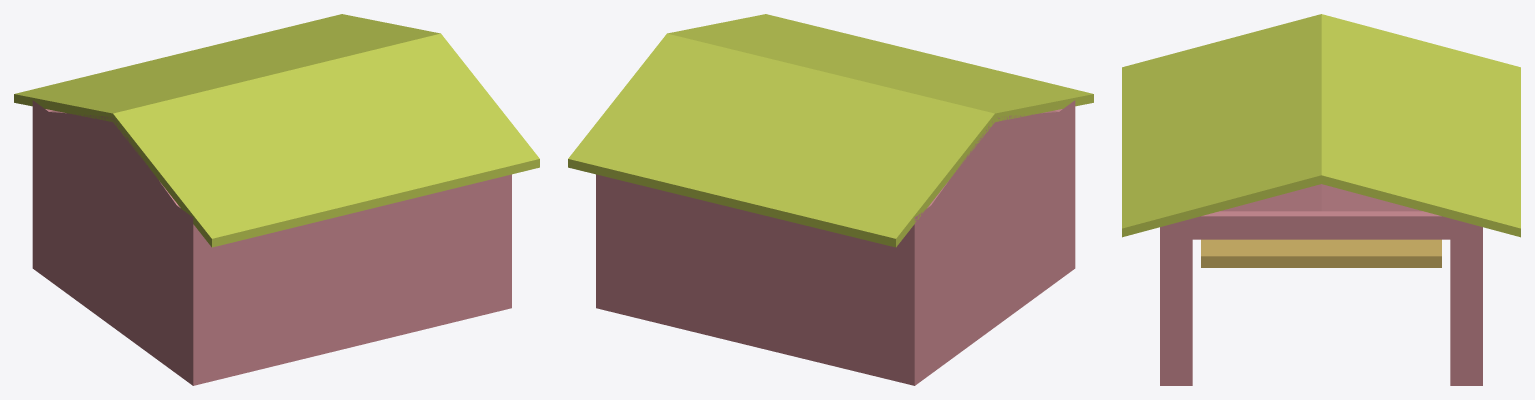
The model's file is Garage.fbx.
3 renders of one model, left to right at view 1: azimuth 30°, elevation 25°; view 2: azimuth 150°, elevation 25°; view 3: azimuth 270°, elevation 25°, orthographic.
Parts seen in each view (by area): view 1: Cube; view 2: Cube; view 3: Cube.
Boxes of the visible parts, left/top/right/bottom form: Cube: left=14, top=14, right=539, bottom=385; Cube: left=568, top=14, right=1093, bottom=385; Cube: left=1122, top=14, right=1520, bottom=385.
Size of the model in its own units: 449 by 266 by 446.
